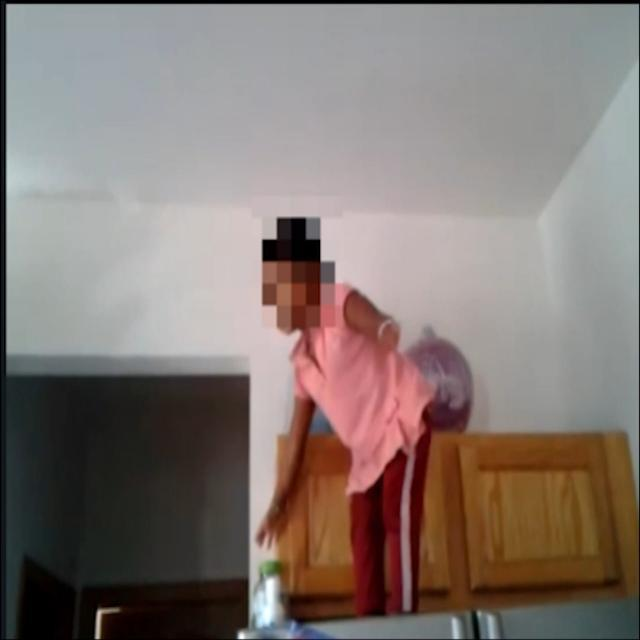child: (254, 232, 432, 620)
